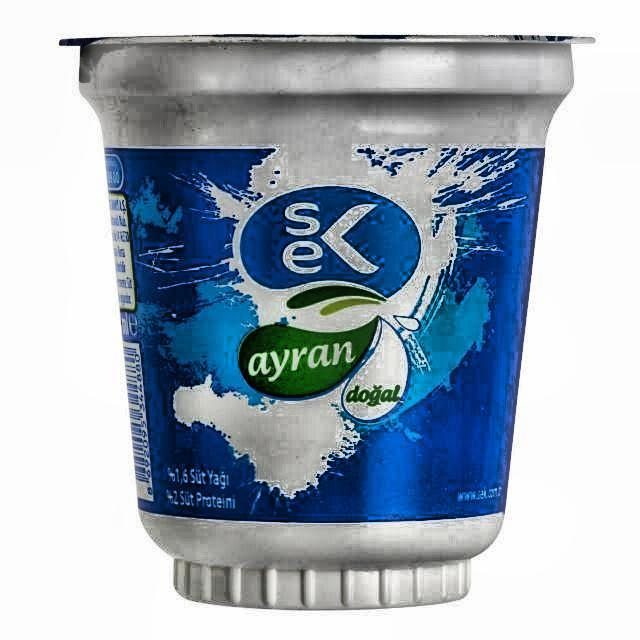plastic: (59, 33, 600, 614)
